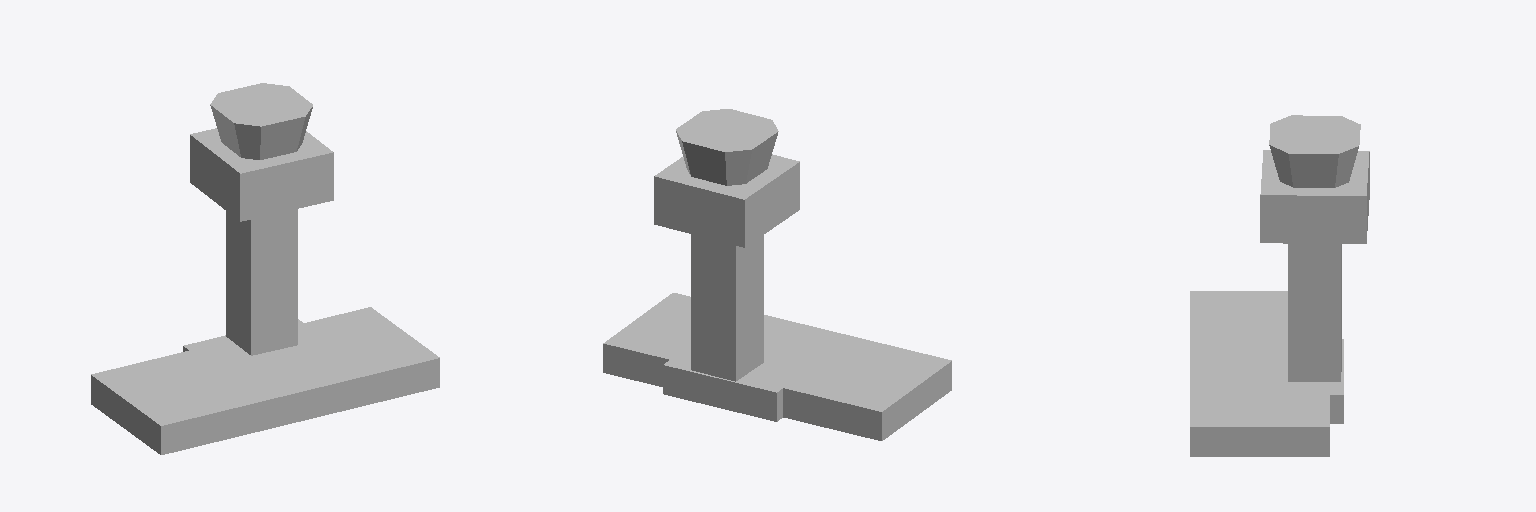
Rendered from ControlTower.obj.
3 views of the same model, side by side, from view 1: azimuth 30°, elevation 25°; view 2: azimuth 150°, elevation 25°; view 3: azimuth 270°, elevation 25° (orthographic).
Visible parts, largest first — view 1: Layer0_001; view 2: Layer0_001; view 3: Layer0_001.
Part boxes in pixels (x1,y1,x2,y2): Layer0_001: (91,83,439,454); Layer0_001: (603,109,951,440); Layer0_001: (1190,115,1369,456).
Bounding box in the file's own units: 35.86 × 32.54 × 19.91.